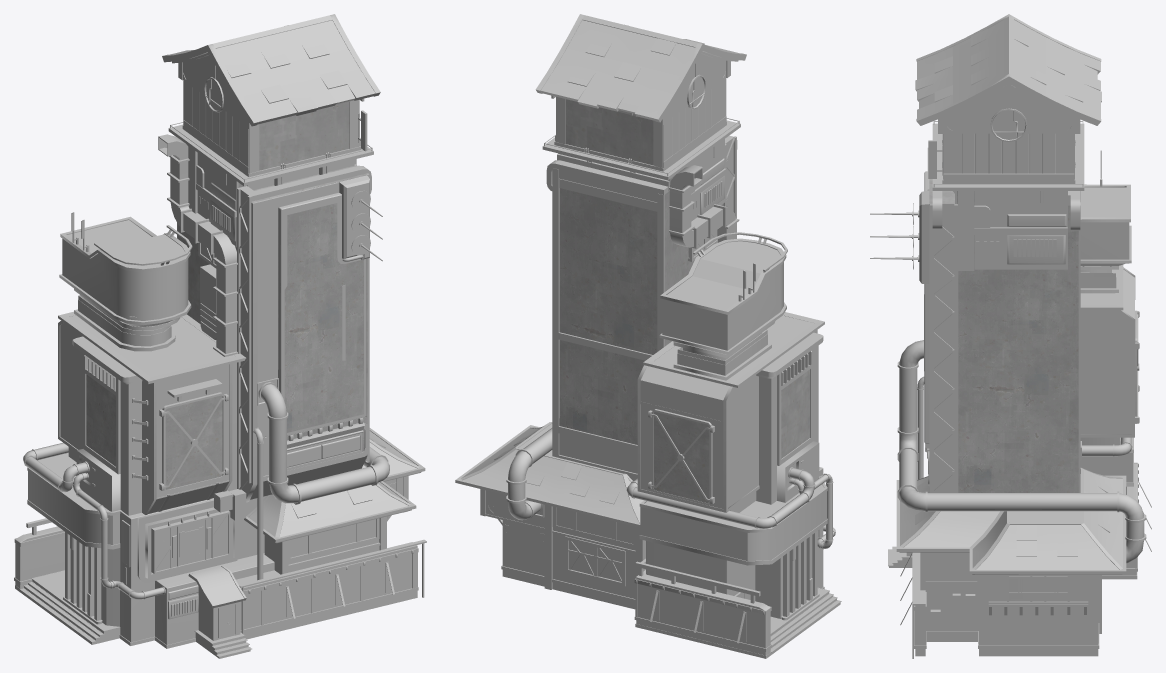
File: SM_Cit_Bui_24.fbx
3 views of the same model, side by side, from view 1: azimuth 30°, elevation 25°; view 2: azimuth 150°, elevation 25°; view 3: azimuth 270°, elevation 25° (orthographic). The views are drawn at different scales.
Visible parts, largest first — view 1: SM_Cit_Bui_24AL.mo, SM_Cit_Bui_24BL.mo; view 2: SM_Cit_Bui_24AL.mo, SM_Cit_Bui_24BL.mo; view 3: SM_Cit_Bui_24AL.mo, SM_Cit_Bui_24BL.mo.
Part boxes in pixels (x1=…): SM_Cit_Bui_24AL.mo: x1=14, y1=14, x2=426, y2=658; SM_Cit_Bui_24BL.mo: x1=21, y1=53, x2=421, y2=656; SM_Cit_Bui_24AL.mo: x1=455, y1=14, x2=841, y2=658; SM_Cit_Bui_24BL.mo: x1=480, y1=51, x2=840, y2=651; SM_Cit_Bui_24AL.mo: x1=888, y1=14, x2=1146, y2=658; SM_Cit_Bui_24BL.mo: x1=870, y1=86, x2=1151, y2=656.
Size of the model in its own units: 24.96 by 40.6 by 18.43.
